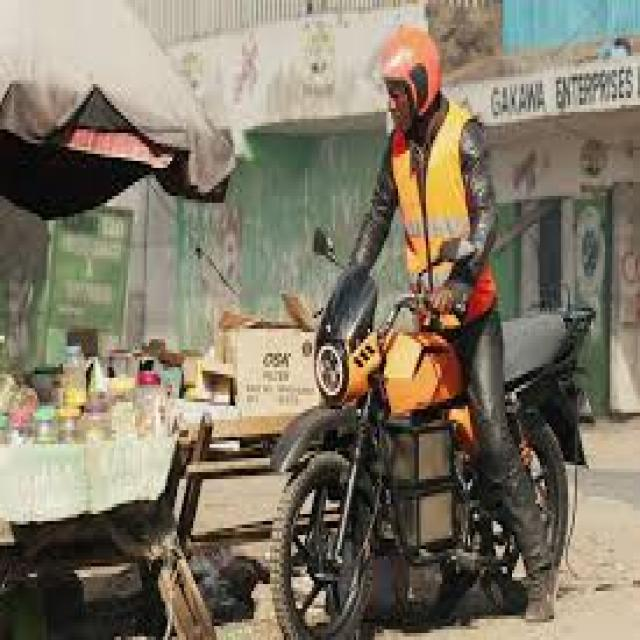bodaboda: (229, 181, 626, 640)
